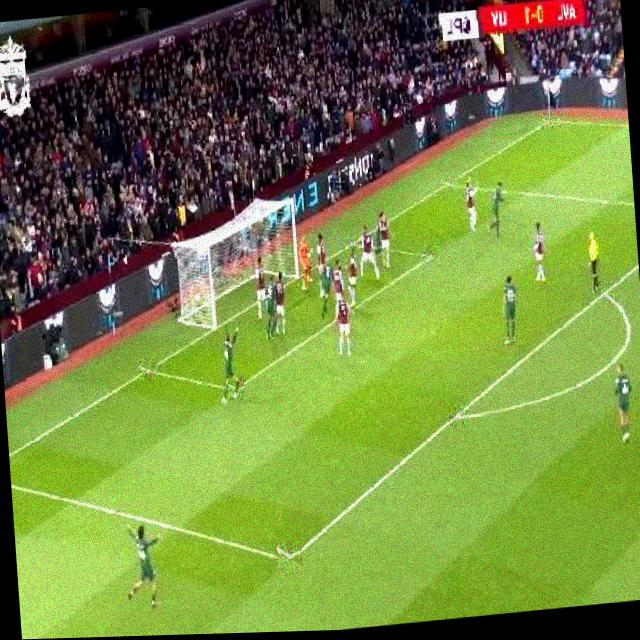bigarea_bottom_inner: (276, 540, 303, 577)
bigarea_top_outter: (440, 174, 455, 192)
bottom_arc_area_intersection: (447, 402, 467, 427)
corner: (539, 111, 562, 129)
smallarea_bottom_inner: (228, 376, 245, 400)
smallarea_bottom_outter: (138, 357, 158, 380)
smallarea_top_inner: (422, 243, 439, 264)
smallarea_top_outter: (346, 232, 362, 251)
top_arc_area_intersection: (596, 279, 614, 303)
